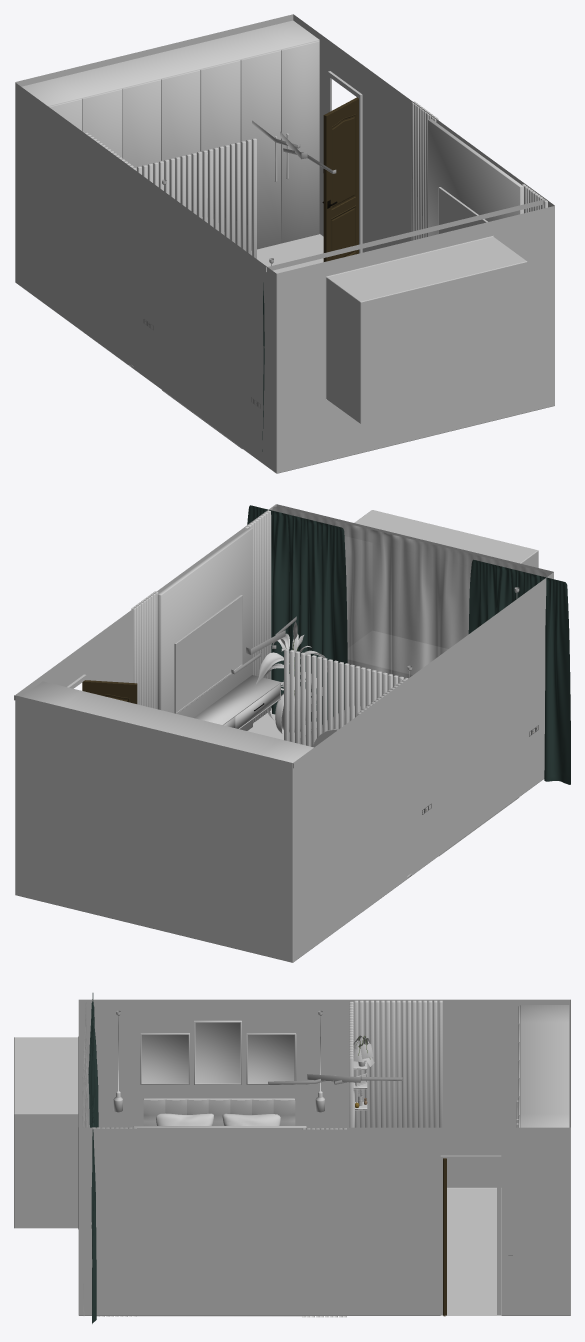
The picture shows the model from 3 angles, top to bottom: view 1: azimuth 30°, elevation 25°; view 2: azimuth 150°, elevation 25°; view 3: azimuth 270°, elevation 25°; orthographic projection. The views are drawn at different scales.
Parts seen in each view (by area): view 1: object 1, object 50, object 49, object 13, Cube.002_43, Object_118, object 43, object 62, object 18, object 29; view 2: object 1, object 21, object 23, Cube.002_43, object 22, object 13, object 49, object 18, object 45, object 43, object 46, Peace Lily.001_27 (+1 smaller); view 3: object 1, object 15, object 49, object 25, object 64, object 24, object 26, object 29, object 22, object 23, Cube.003_65, object 67 (+6 smaller).
Boxes of the visible parts, <box> form: object 1: <box>15,14,554,473</box>; object 50: <box>49,41,319,250</box>; object 49: <box>21,20,319,249</box>; object 13: <box>132,138,256,258</box>; Cube.002_43: <box>428,119,523,236</box>; Object_118: <box>323,97,358,261</box>; object 43: <box>411,101,438,240</box>; object 62: <box>266,199,546,271</box>; object 18: <box>438,187,487,233</box>; object 29: <box>328,71,362,253</box>; object 1: <box>15,504,553,962</box>; object 21: <box>272,506,546,706</box>; object 23: <box>247,505,347,724</box>; Cube.002_43: <box>157,527,252,730</box>; object 22: <box>468,559,570,784</box>; object 13: <box>284,648,408,746</box>; object 49: <box>22,681,313,762</box>; object 18: <box>174,595,242,713</box>; object 45: <box>245,510,271,723</box>; object 43: <box>131,591,158,709</box>; object 46: <box>194,675,280,729</box>; Peace Lily.001_27: <box>255,621,327,733</box>; object 1: <box>14,999,570,1315</box>; object 15: <box>354,1000,442,1127</box>; object 49: <box>520,1005,569,1127</box>; object 25: <box>194,1020,241,1084</box>; object 64: <box>143,1098,295,1125</box>; object 24: <box>140,1033,189,1084</box>; object 26: <box>246,1033,296,1084</box>; object 29: <box>440,1155,501,1314</box>; object 22: <box>88,993,98,1127</box>; object 23: <box>91,1095,96,1323</box>; Cube.003_65: <box>268,1074,402,1085</box>; object 67: <box>156,1113,213,1125</box>.
Bounding box in the file's own units: 4.1 × 2.44 × 6.42.
